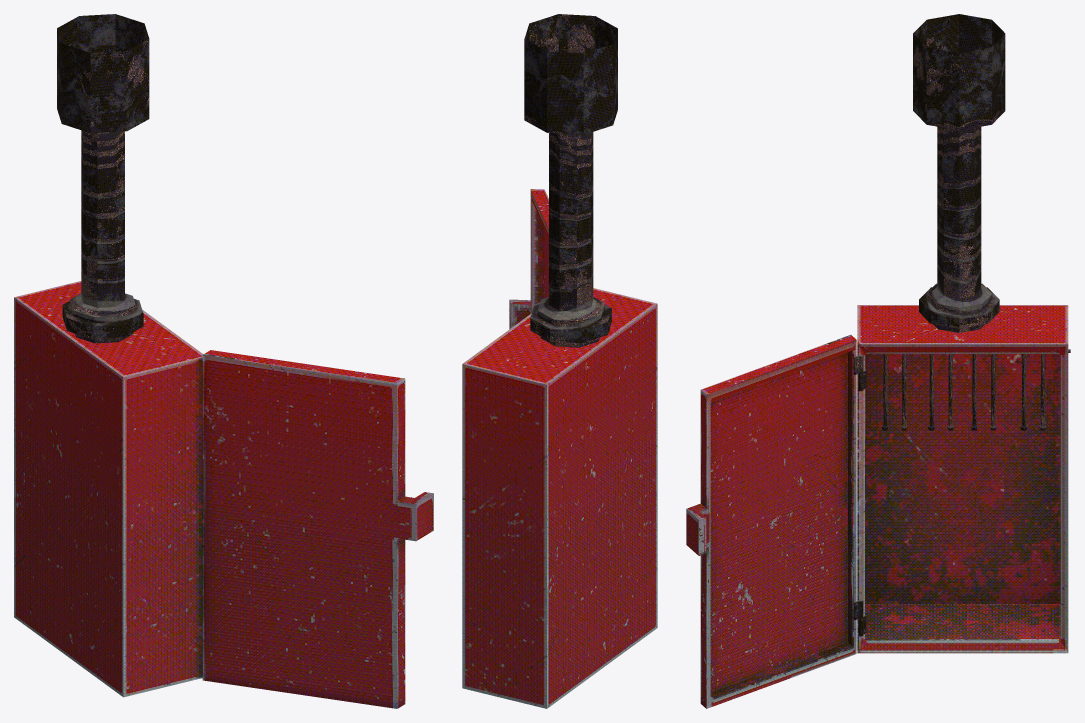
The model's file is Caja_Fusibles_Grande.fbx.
The picture shows the model from 3 angles, left to right: view 1: azimuth 30°, elevation 25°; view 2: azimuth 150°, elevation 25°; view 3: azimuth 270°, elevation 25°; orthographic projection. The views are drawn at different scales.
Visible parts, largest first — view 1: group7_Cable_1_lp; view 2: group7_Cable_1_lp; view 3: group7_Cable_1_lp.
Part boxes in pixels (x1,y1,x2,y2): group7_Cable_1_lp: [14, 14, 433, 708]; group7_Cable_1_lp: [462, 14, 657, 708]; group7_Cable_1_lp: [686, 14, 1070, 708].
Size of the model in its own units: 1.9 by 4.73 by 2.77.
